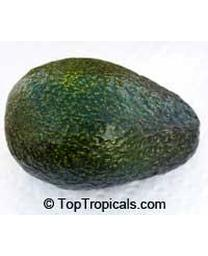avocado: (4, 58, 200, 189)
